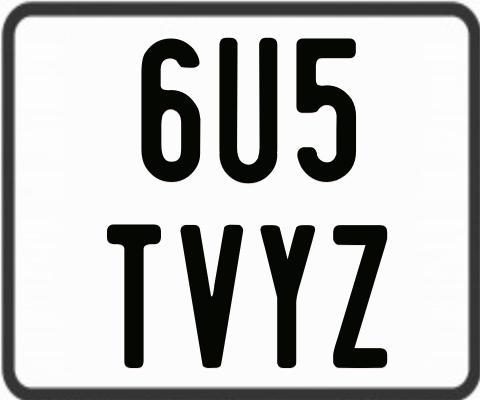5: (294, 35, 358, 183)
6: (140, 36, 204, 183)
T: (104, 222, 158, 367)
U: (217, 35, 279, 182)
V: (178, 223, 244, 372)
Y: (258, 225, 313, 371)
Z: (330, 224, 390, 368)
